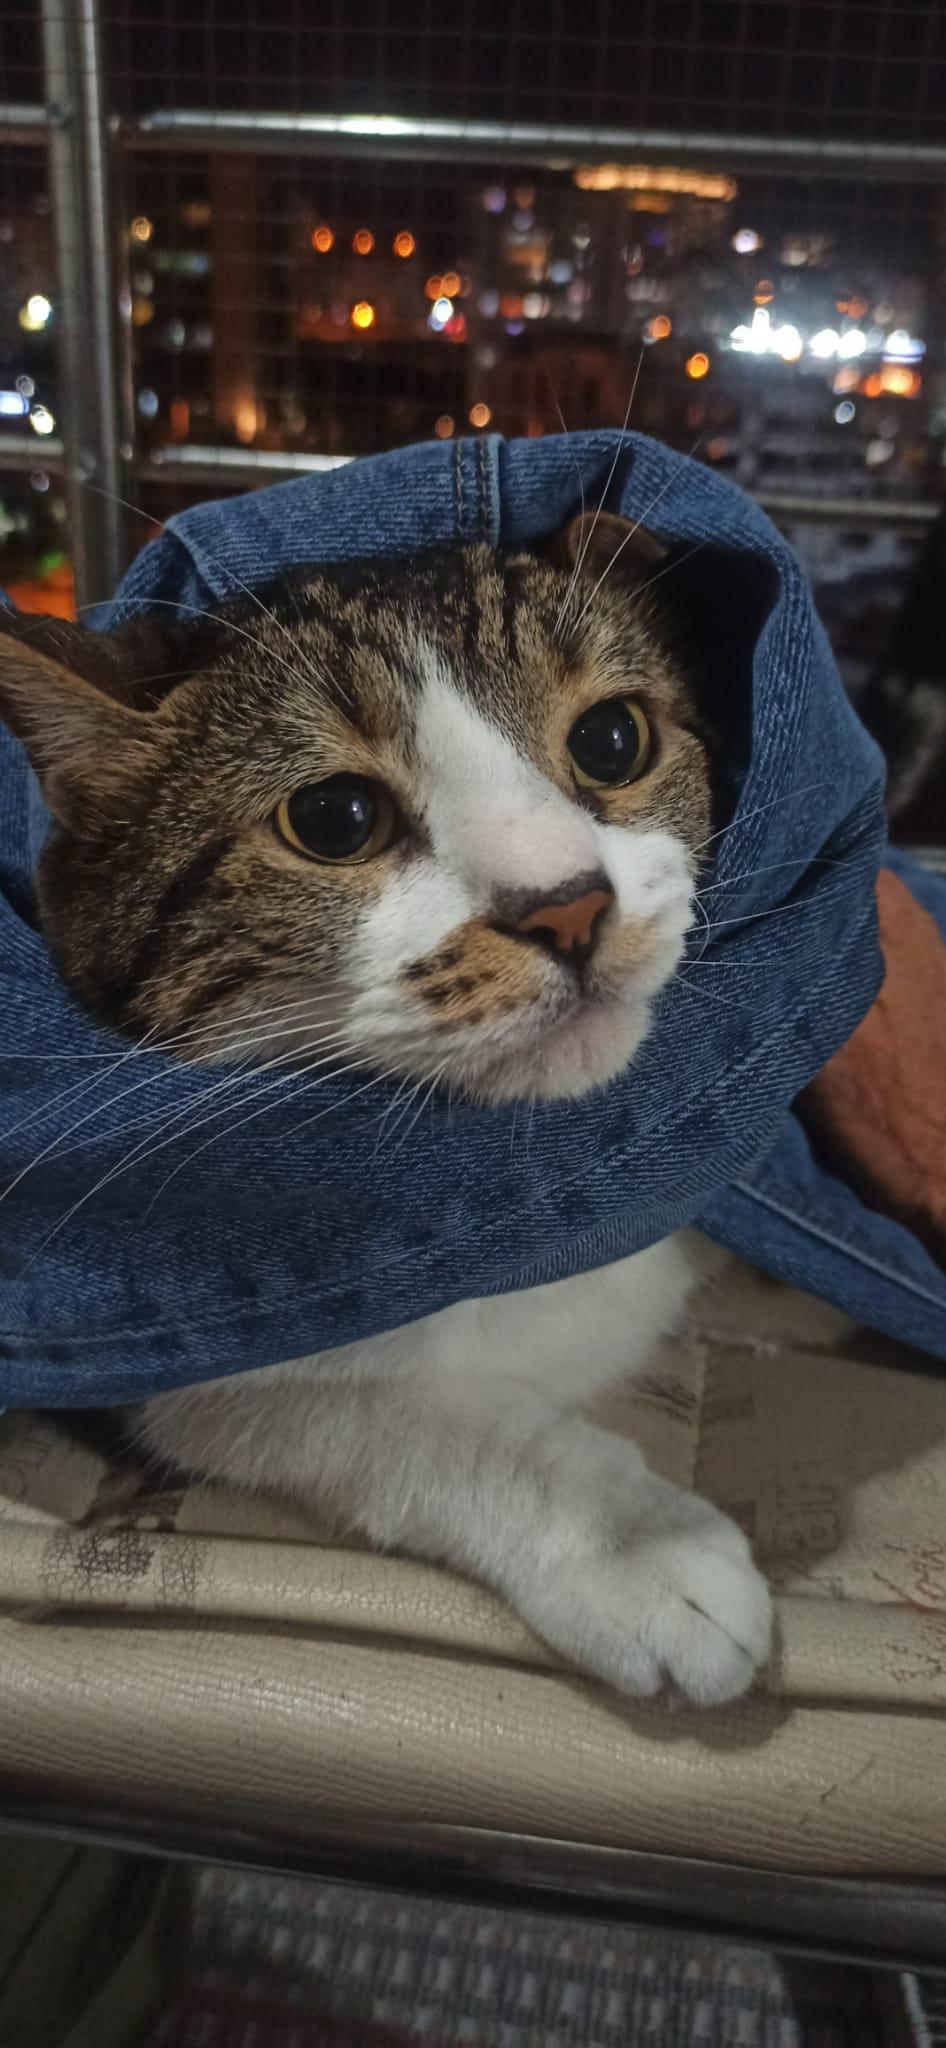kedo: (0, 517, 718, 1106)
